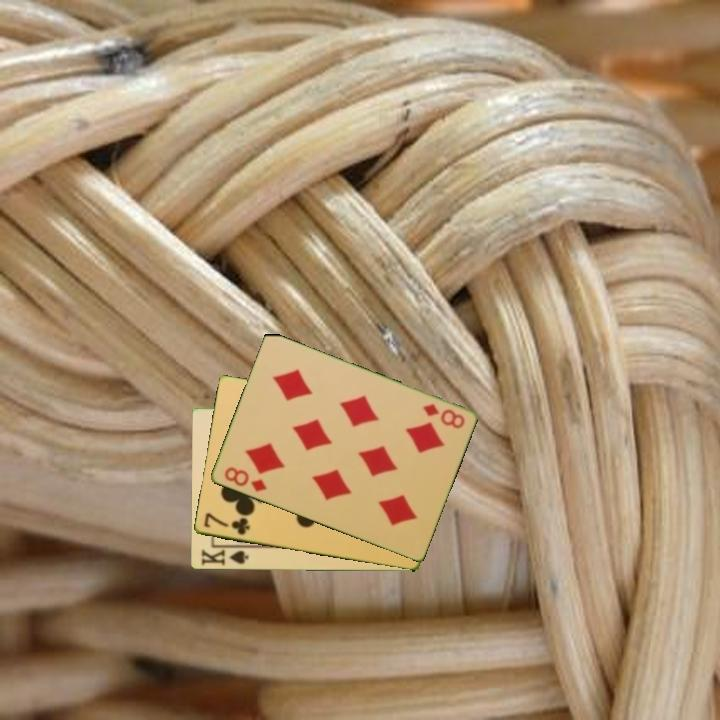7c: (200, 509, 252, 538)
8d: (419, 400, 467, 432), (220, 464, 269, 495)
Ks: (197, 543, 252, 568)
